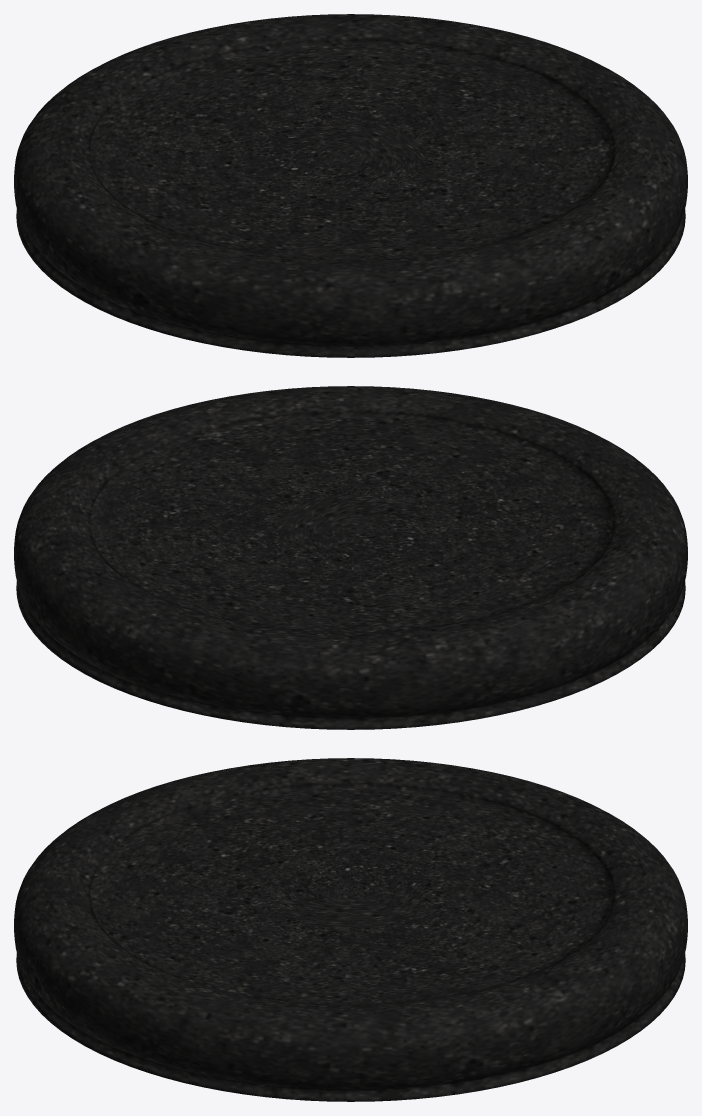
The model's file is yinsh-marker-black.glb.
3 renders of one model, top to bottom at view 1: azimuth 30°, elevation 25°; view 2: azimuth 150°, elevation 25°; view 3: azimuth 270°, elevation 25°, orthographic.
Visible parts, largest first — view 1: yinsh-marker-black; view 2: yinsh-marker-black; view 3: yinsh-marker-black.
Part boxes in pixels (left/top/right/bottom): yinsh-marker-black: left=14, top=14, right=687, bottom=357; yinsh-marker-black: left=14, top=386, right=687, bottom=729; yinsh-marker-black: left=14, top=758, right=687, bottom=1101.
Size of the model in its own units: 0.0207 by 0.00256 by 0.0207.
1 material, 1 textured.
